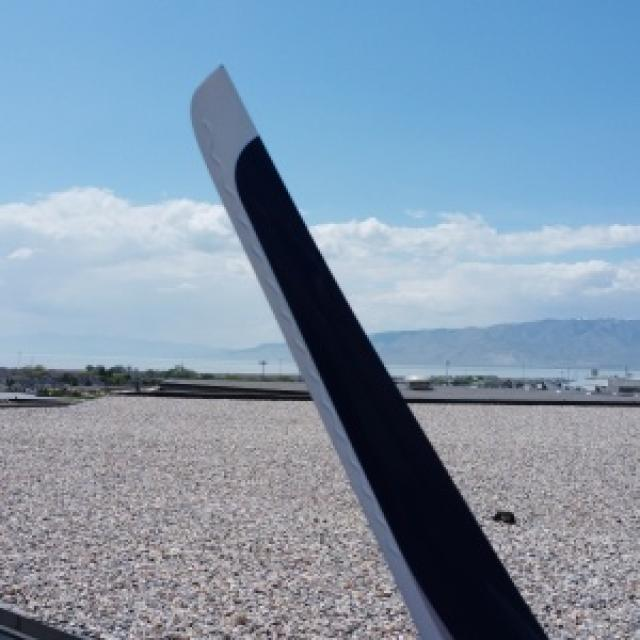healthy: (192, 64, 544, 638)
